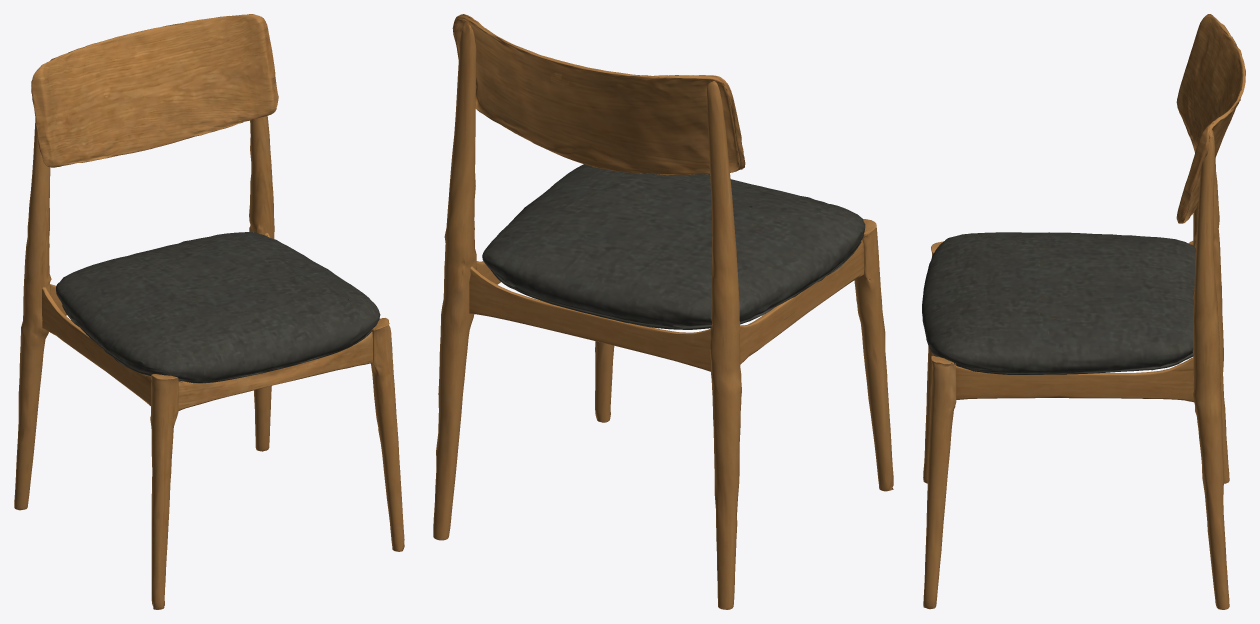
File: desktop.glb
3 views of the same model, side by side, from view 1: azimuth 30°, elevation 25°; view 2: azimuth 150°, elevation 25°; view 3: azimuth 270°, elevation 25° (orthographic). The views are drawn at different scales.
Parts seen in each view (by area): view 1: chair; view 2: chair; view 3: chair.
Boxes of the visible parts, left/top/right/bottom form: chair: left=14, top=14, right=404, bottom=609; chair: left=433, top=14, right=893, bottom=609; chair: left=922, top=14, right=1245, bottom=609.
Bounding box in the file's own units: 0.5391 × 0.8998 × 0.5561.
1 material, 1 textured.
